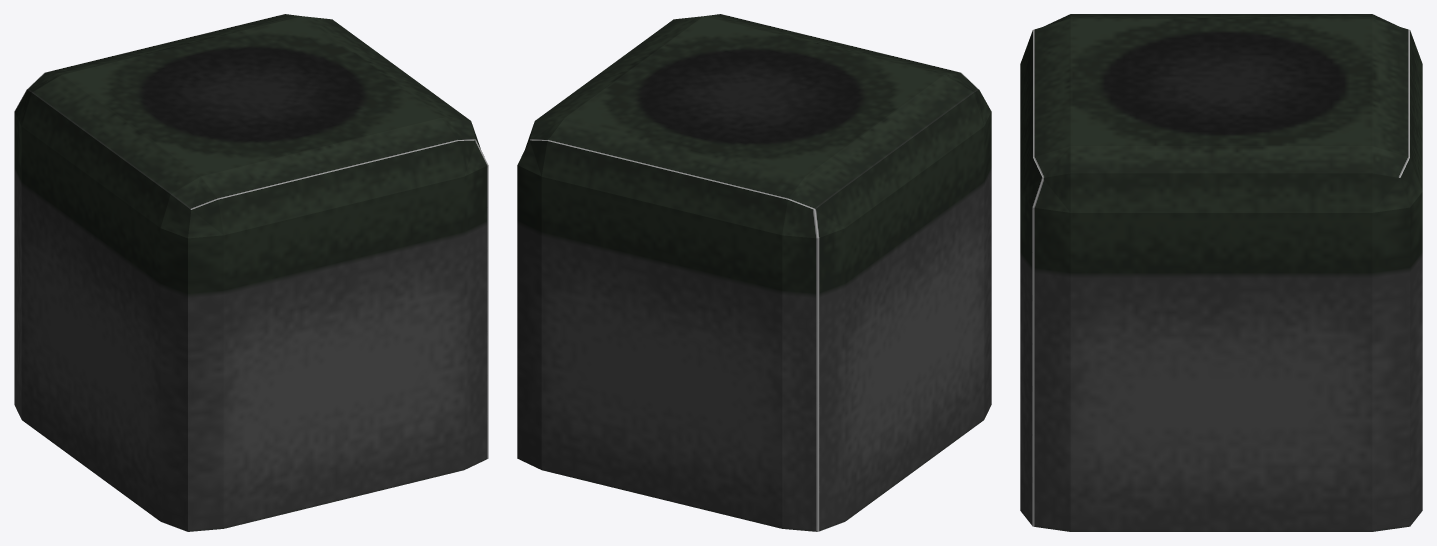
The model's file is boilet.dae.
3 renders of one model, left to right at view 1: azimuth 30°, elevation 25°; view 2: azimuth 150°, elevation 25°; view 3: azimuth 270°, elevation 25°, orthographic. The views are drawn at different scales.
Parts seen in each view (by area): view 1: Cube; view 2: Cube; view 3: Cube.
Part boxes in pixels (box(x1,y1,x2,y2)): Cube: box(14, 14, 488, 531); Cube: box(517, 14, 991, 531); Cube: box(1020, 14, 1422, 531).
Size of the model in its own units: 2 by 2 by 2.
Materials: 1 (1 with a texture image).
